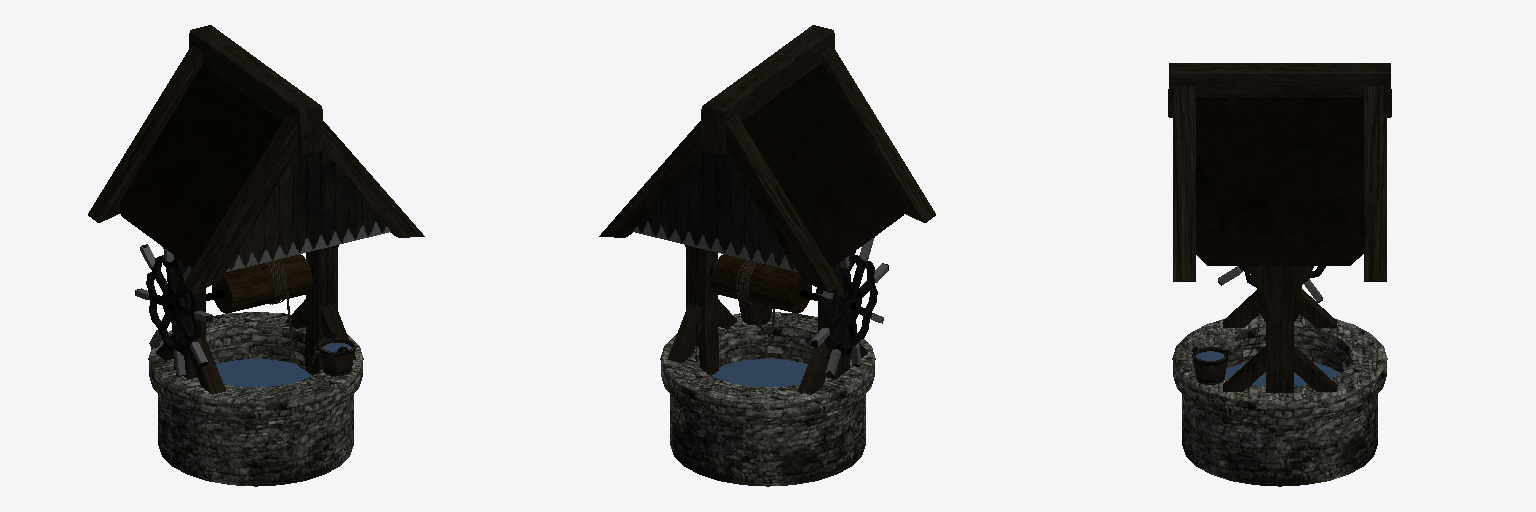
The picture shows the model from 3 angles: view 1: azimuth 30°, elevation 25°; view 2: azimuth 150°, elevation 25°; view 3: azimuth 270°, elevation 25°; orthographic projection.
Visible parts, largest first — view 1: well_low; view 2: well_low; view 3: well_low.
Part boxes in pixels (left/top/right/bottom): well_low: left=88, top=25, right=424, bottom=486; well_low: left=599, top=25, right=935, bottom=486; well_low: left=1168, top=63, right=1391, bottom=486.
Bounding box in the file's own units: 40.81 × 63.93 × 34.26.
Materials: 1 (1 with a texture image).